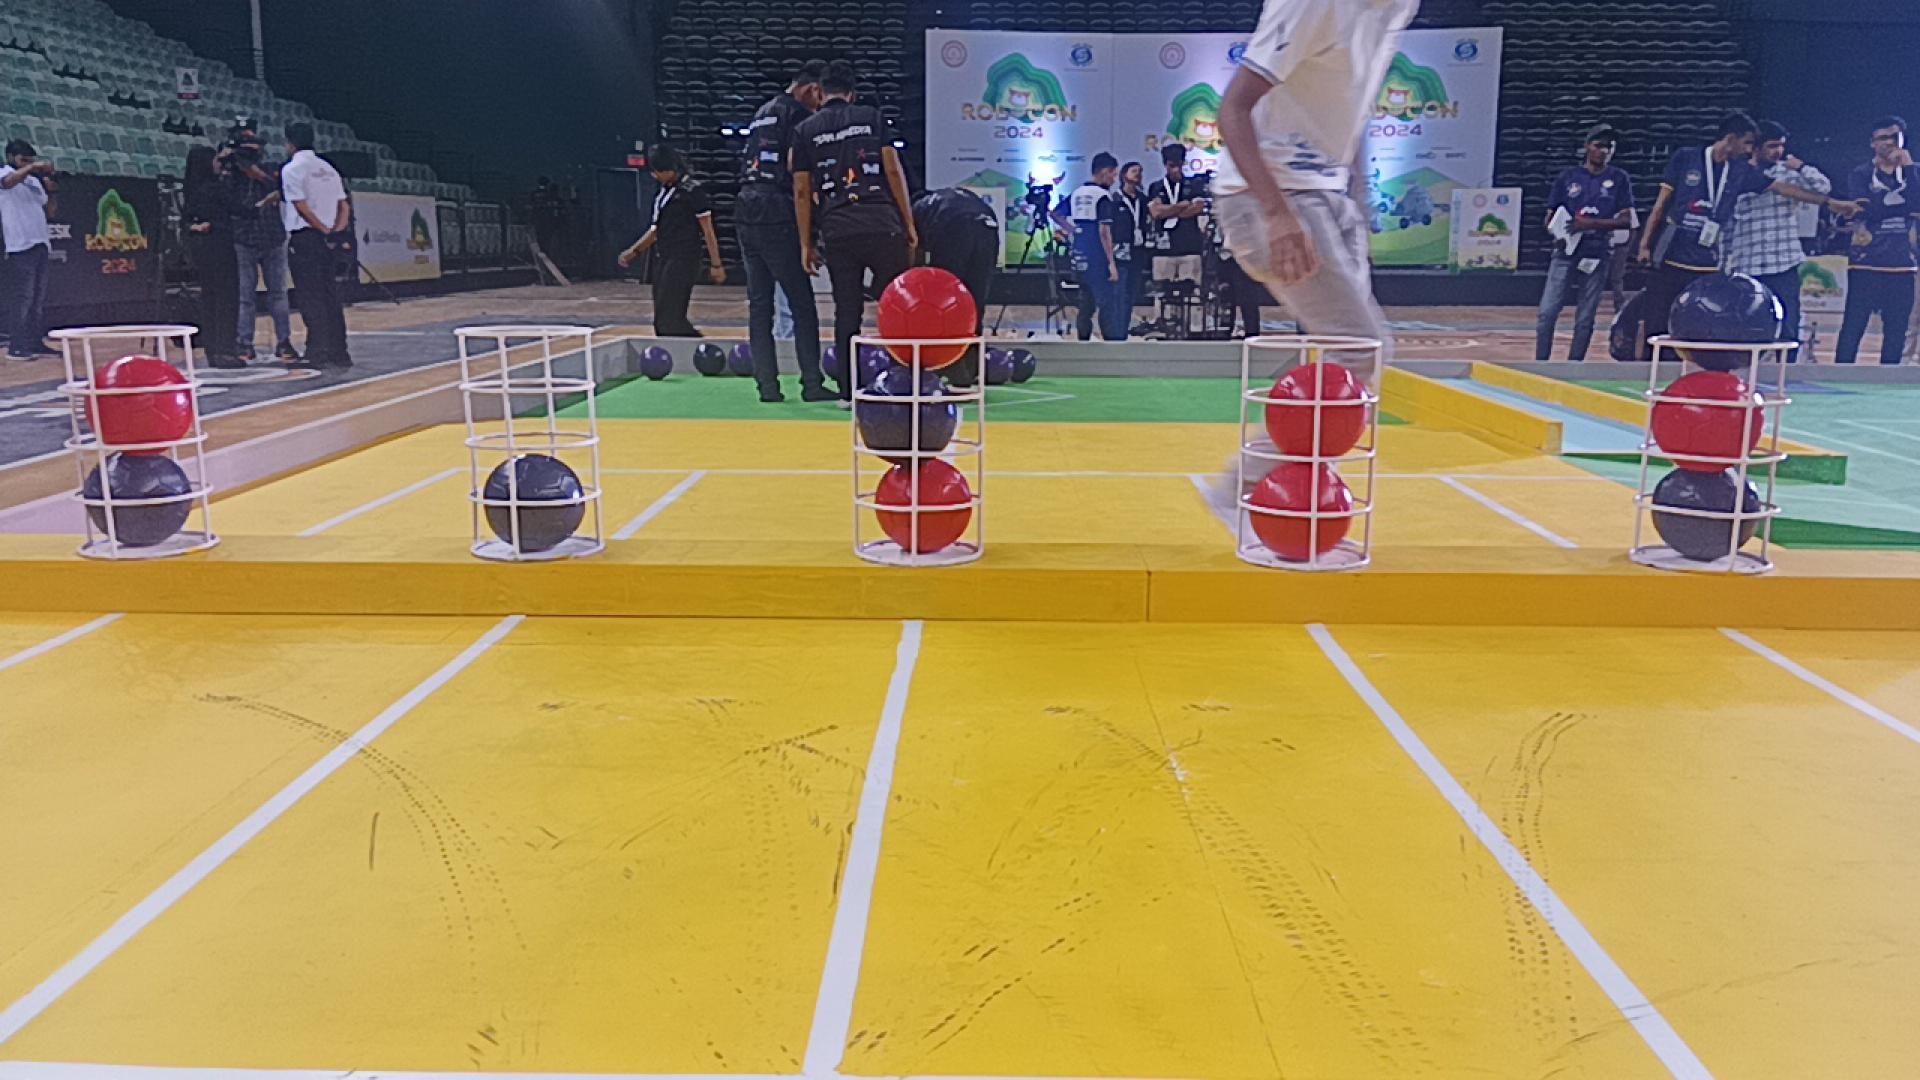dhoka: (1654, 468, 1762, 562), (82, 458, 190, 550), (484, 456, 585, 554), (856, 365, 957, 459)
laale: (1652, 368, 1762, 473), (1249, 460, 1354, 559), (1265, 361, 1370, 459), (878, 268, 976, 368), (83, 361, 191, 448), (874, 460, 972, 554)
